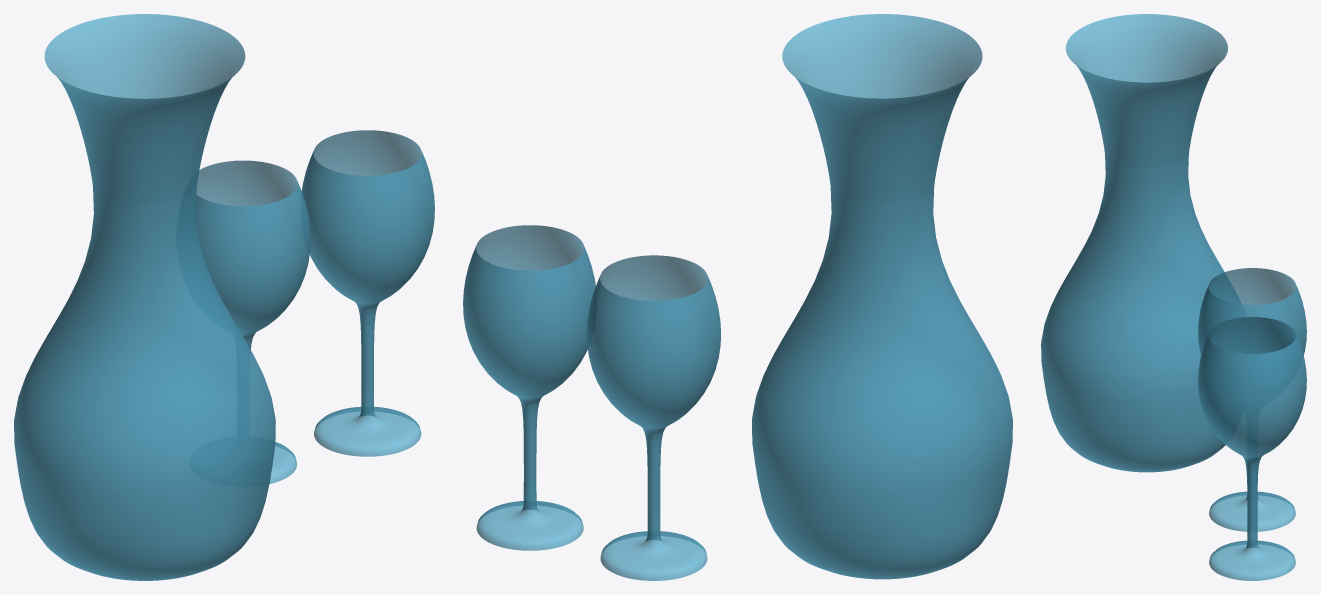
3 views of the same model, side by side, from view 1: azimuth 30°, elevation 25°; view 2: azimuth 150°, elevation 25°; view 3: azimuth 270°, elevation 25° (orthographic). The views are drawn at different scales.
Visible parts, largest first — view 1: NurbsCircle, Čaša2, Čaša1; view 2: NurbsCircle, Čaša1, Čaša2; view 3: NurbsCircle, Čaša2, Čaša1.
Part boxes in pixels (<box>): NurbsCircle: <box>14,14,275,580</box>; Čaša2: <box>301,130,434,456</box>; Čaša1: <box>196,160,310,483</box>; NurbsCircle: <box>752,14,1012,579</box>; Čaša1: <box>587,255,720,580</box>; Čaša2: <box>463,225,595,550</box>; NurbsCircle: <box>1041,14,1240,472</box>; Čaša2: <box>1198,317,1306,580</box>; Čaša1: <box>1198,268,1306,531</box>.
Size of what is drawn, in the model's own units: 4.07 by 4.19 by 2.52.
